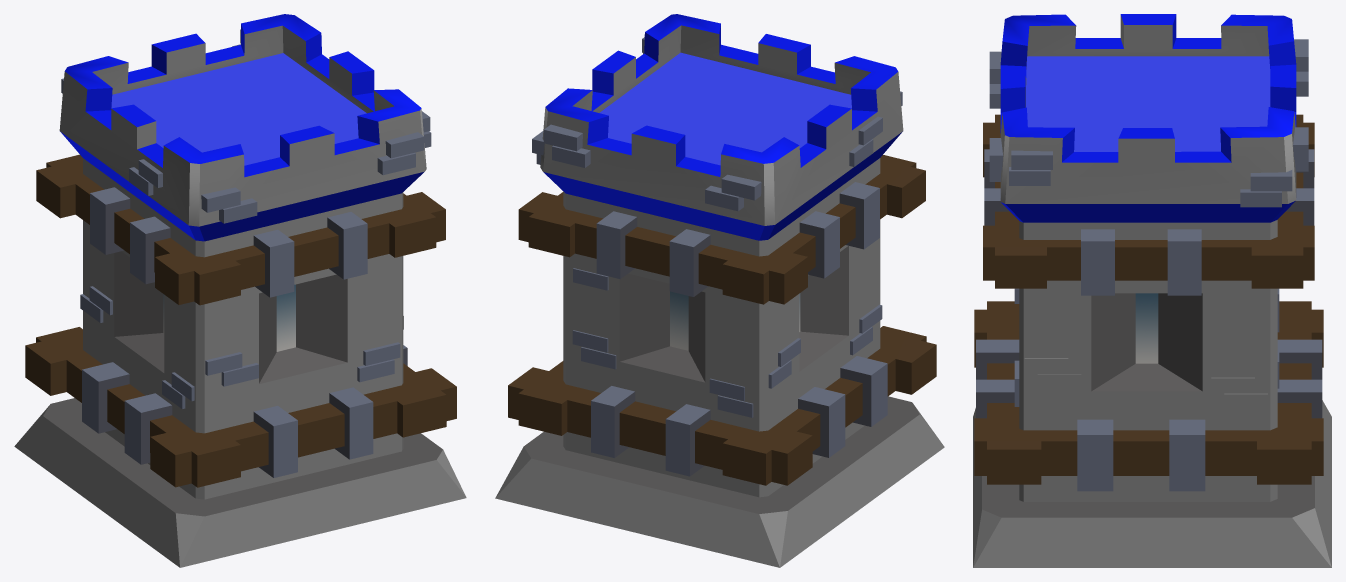
The model's file is Tower8 1.fbx.
The picture shows the model from 3 angles, left to right: view 1: azimuth 30°, elevation 25°; view 2: azimuth 150°, elevation 25°; view 3: azimuth 270°, elevation 25°; orthographic projection. The views are drawn at different scales.
Parts seen in each view (by area): view 1: Tower8; view 2: Tower8; view 3: Tower8.
Part boxes in pixels (x1,y1,x2,y2): Tower8: (14, 14, 466, 567); Tower8: (495, 14, 944, 567); Tower8: (973, 14, 1331, 567).
Bounding box in the file's own units: 346 × 443 × 347.
